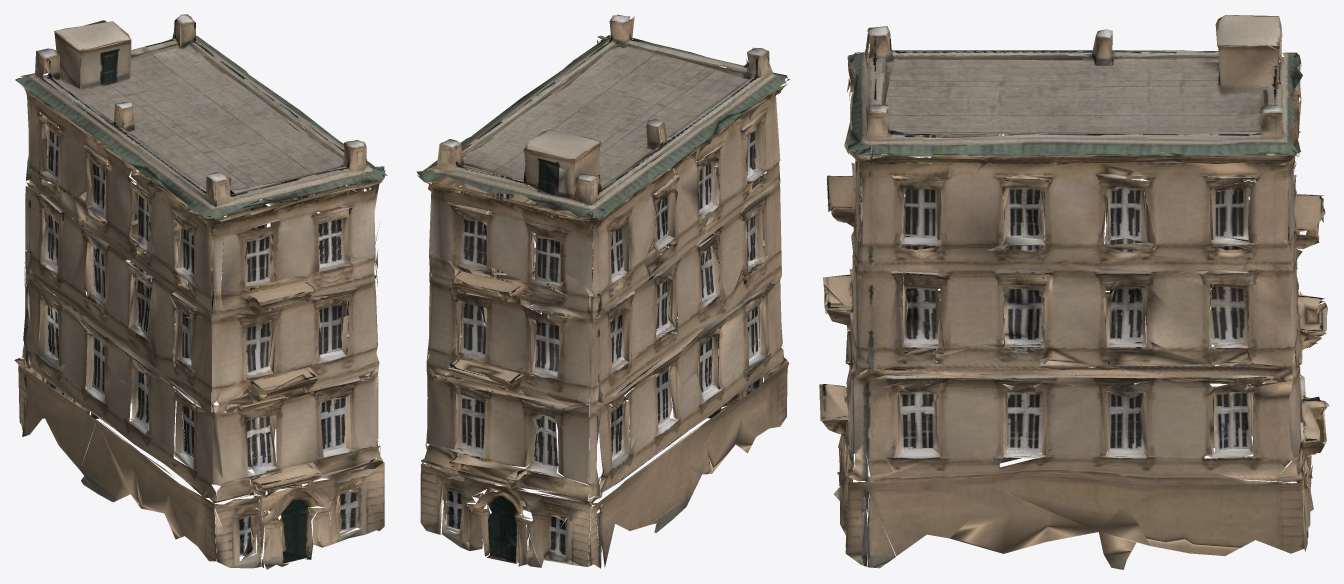
File: stadt_altbau.glb
3 views of the same model, side by side, from view 1: azimuth 30°, elevation 25°; view 2: azimuth 150°, elevation 25°; view 3: azimuth 270°, elevation 25° (orthographic). The views are drawn at different scales.
Parts seen in each view (by area): view 1: Prop; view 2: Prop; view 3: Prop.
Boxes of the visible parts, box(x1,y1,x2,y2) form: Prop: box(14, 14, 387, 569); Prop: box(416, 14, 789, 568); Prop: box(819, 15, 1329, 569).
Bounding box in the file's own units: 0.4827 × 1 × 0.9766.
1 material, 1 textured.
